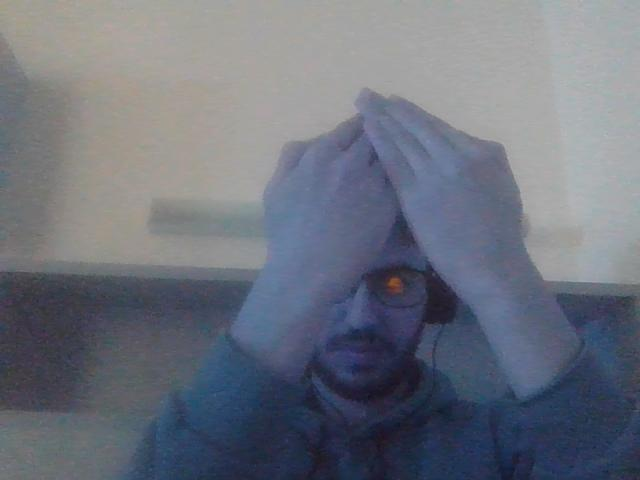thank you: (261, 84, 534, 306)
